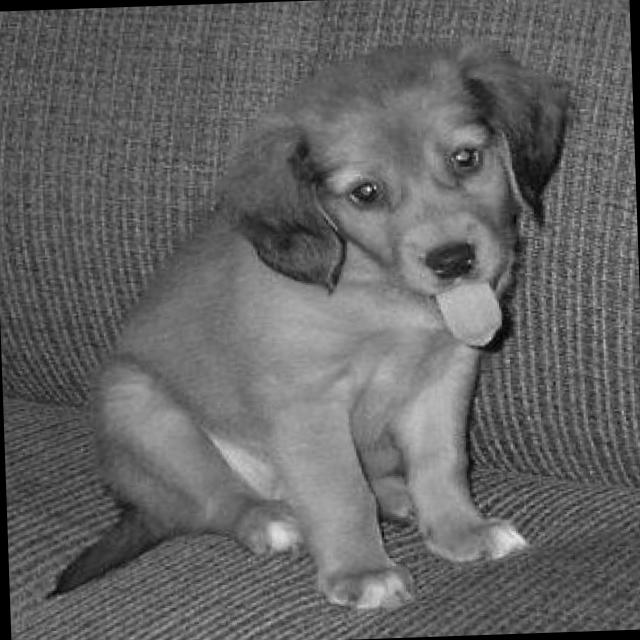sitting: (17, 29, 607, 626)
